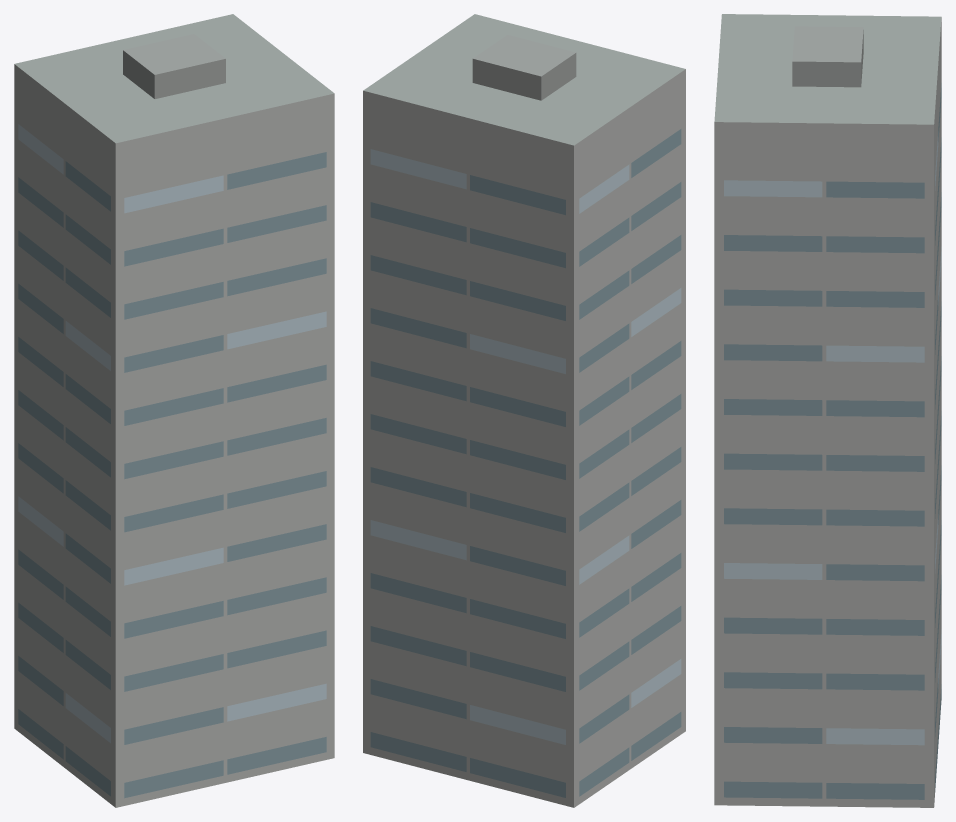
File: fallback-sk-bukhansan-city-118.glb
3 views of the same model, side by side, from view 1: azimuth 30°, elevation 25°; view 2: azimuth 150°, elevation 25°; view 3: azimuth 270°, elevation 25° (orthographic). The views are drawn at different scales.
Visible parts, largest first — view 1: fallback-sk-bukhansan-city-118; view 2: fallback-sk-bukhansan-city-118; view 3: fallback-sk-bukhansan-city-118.
Part boxes in pixels (x1,y1,x2,y2): fallback-sk-bukhansan-city-118: [14, 14, 334, 807]; fallback-sk-bukhansan-city-118: [363, 14, 685, 807]; fallback-sk-bukhansan-city-118: [714, 14, 941, 807].
Size of the model in its own units: 22.84 by 68 by 19.8.
